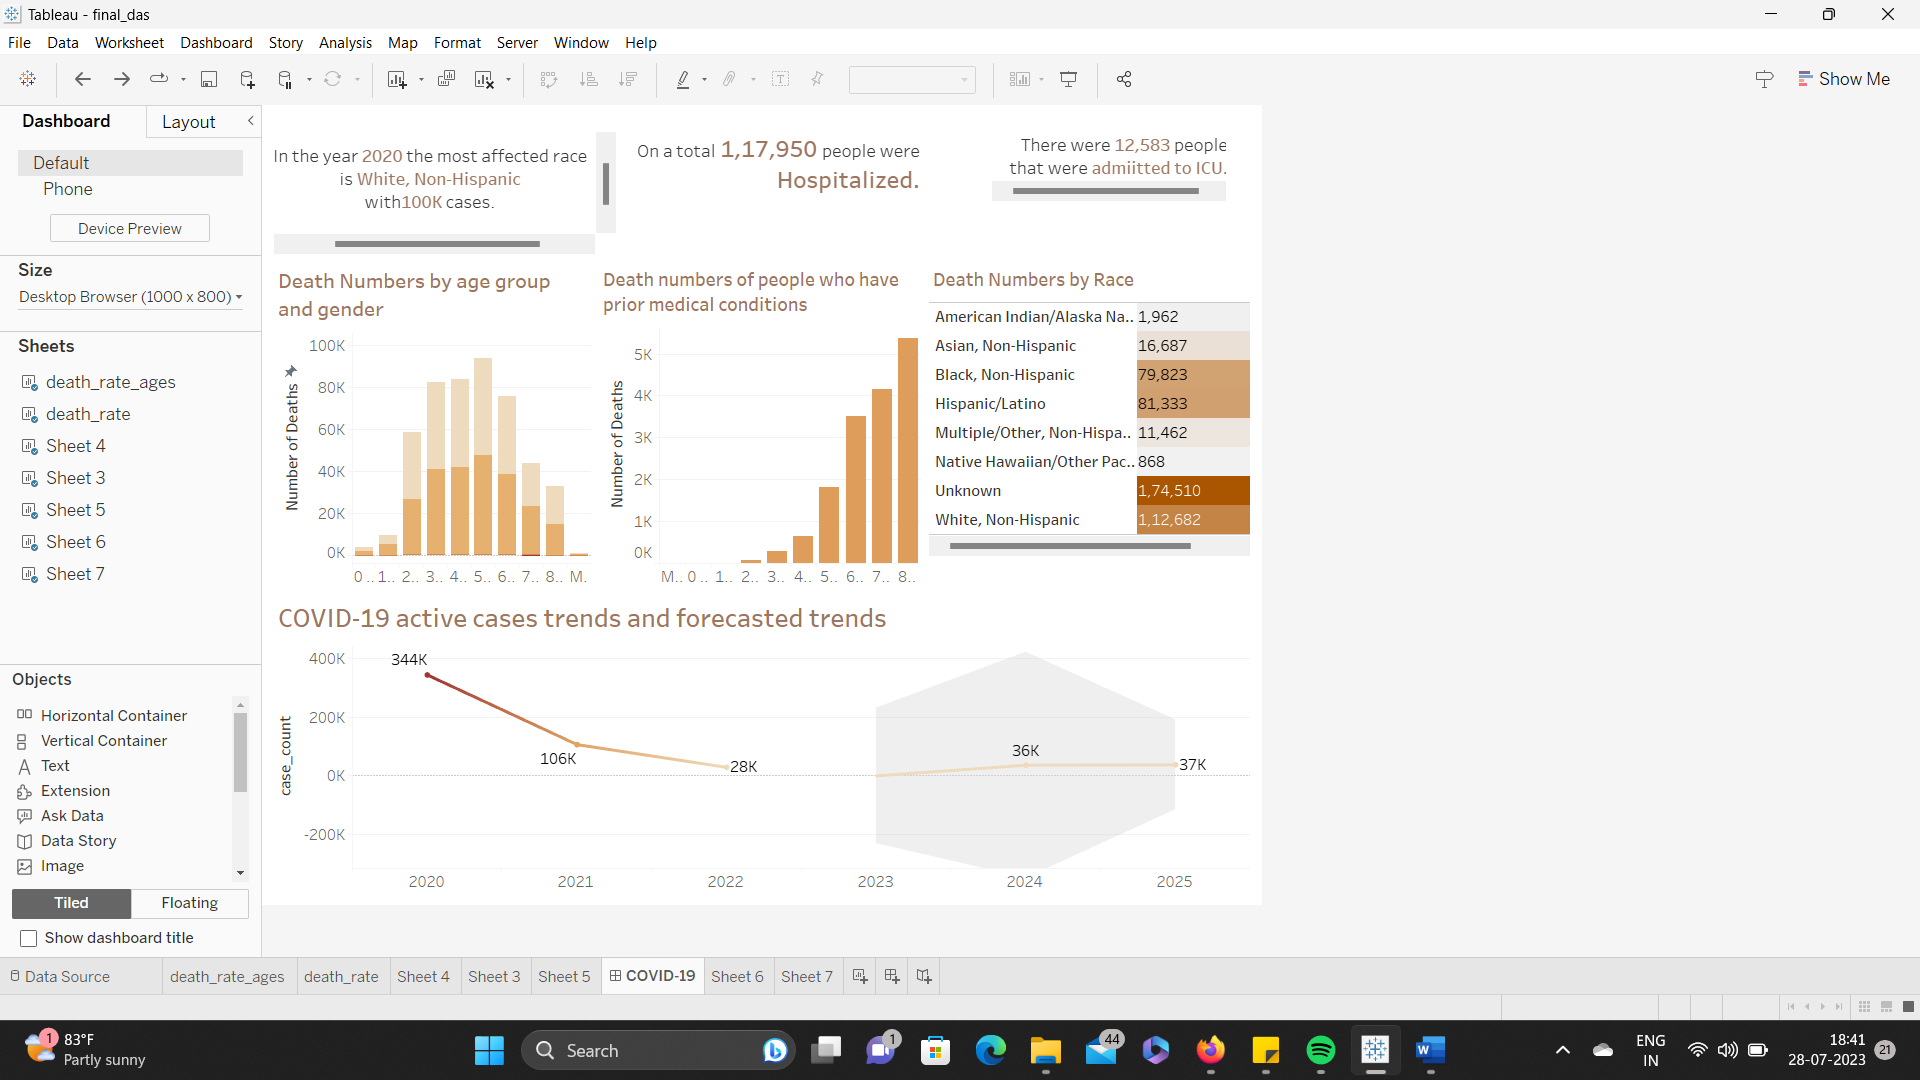

Layout of this report page (visuals, bound fields, positions):
{"tool":"tableau","page":{"name":"COVID-19","canvas":[1000,800],"ordinal":0},"visuals":[{"type":"worksheet","title":"Sheet 3","mark":"Automatic","box":[8,8,350,145]},{"type":"worksheet","title":"Sheet 6","mark":"Automatic","box":[358,8,368,145]},{"type":"worksheet","title":"Sheet 7","mark":"Automatic","box":[726,8,242,145]},{"type":"worksheet","title":"death_rate_ages","mark":"Automatic","rows":["Calculation_1028509616471638016"],"cols":["age_group"],"box":[8,153,325,334]},{"type":"worksheet","title":"Sheet 5","mark":"Automatic","rows":["Calculation_1446218482630418439"],"cols":["age_group"],"box":[333,153,329.5,334]},{"type":"worksheet","title":"death_rate","mark":"Square","rows":["race_ethnicity_combined"],"box":[662.5,153,329.5,334]},{"type":"worksheet","title":"Sheet 4","mark":"Automatic","rows":["Calculation_1446218482602151937"],"cols":["cdc_report_dt"],"box":[8,487,984,305]}]}

Visuals, with their boxes on the page's 1000x800 design canvas (x1, y1, x2, y2). These are canvas units, not pixel positions in the 1920x1080 screenshot, which may show the page scaled, cropped or inside an application window:
"Sheet 3" worksheet: 8 8 358 153
"Sheet 6" worksheet: 358 8 726 153
"Sheet 7" worksheet: 726 8 968 153
"death_rate_ages" worksheet: 8 153 333 487
"Sheet 5" worksheet: 333 153 662 487
"death_rate" worksheet (Square marks): 662 153 992 487
"Sheet 4" worksheet: 8 487 992 792
